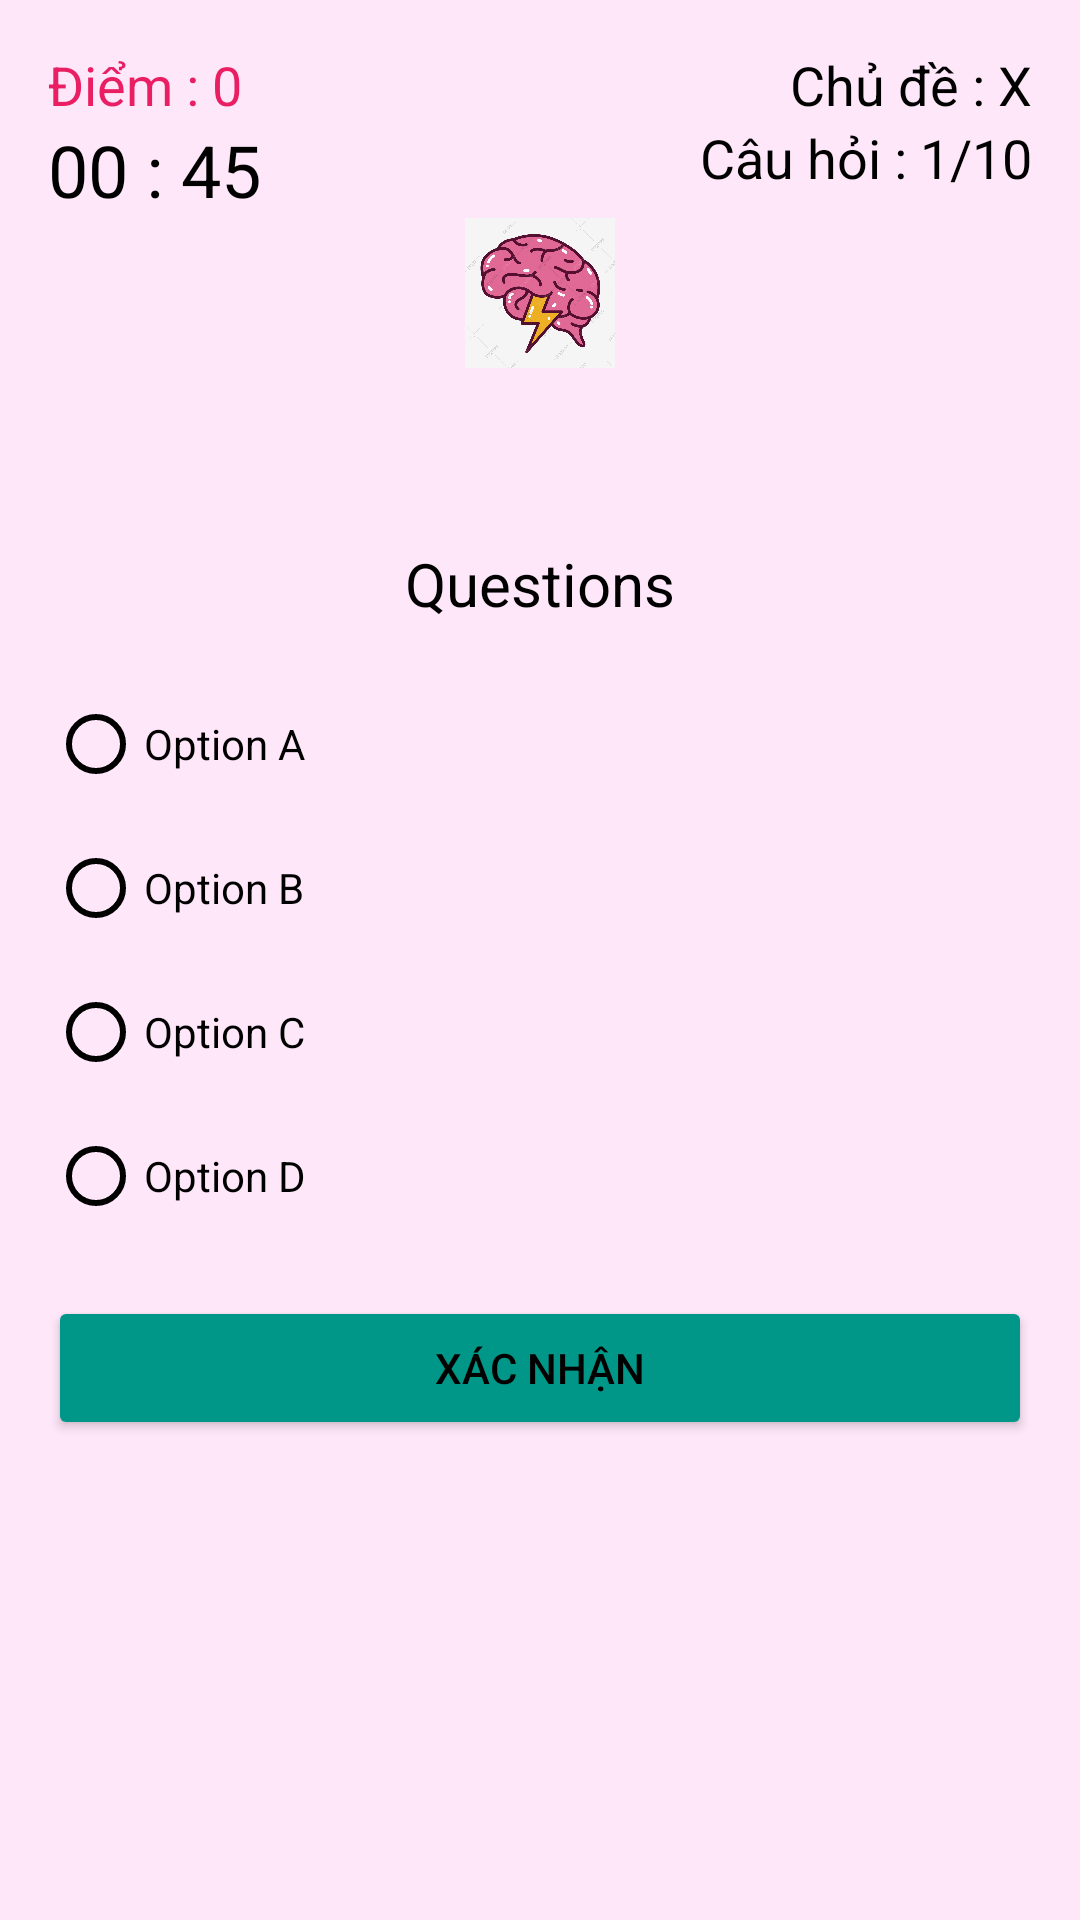

Icons on this 1080w x 1920h Android screen, each with the point to tap as [x,y]:
brain: [540,293]
